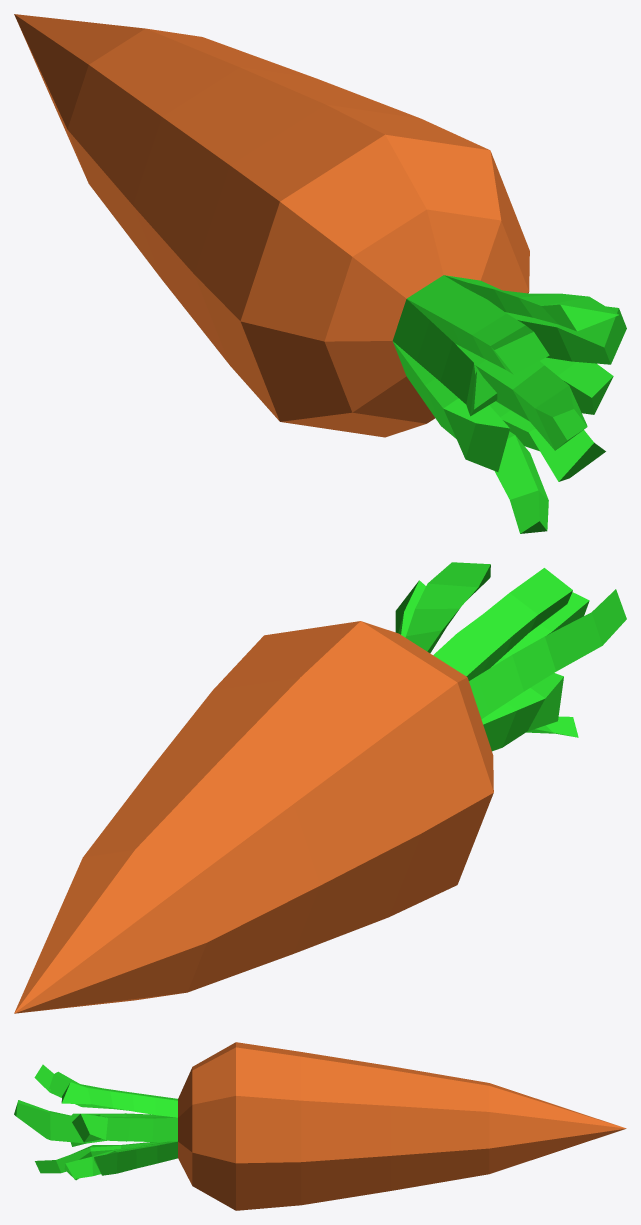
File: carrot.fbx
3 renders of one model, top to bottom at view 1: azimuth 30°, elevation 25°; view 2: azimuth 150°, elevation 25°; view 3: azimuth 270°, elevation 25°, orthographic. The views are drawn at different scales.
Visible parts, largest first — view 1: Cube; view 2: Cube; view 3: Cube.
Boxes of the visible parts, x1,y1,x2,y2 form: Cube: [14, 14, 626, 533]; Cube: [14, 562, 626, 1013]; Cube: [14, 1042, 626, 1210].
Bounding box in the file's own units: 0.3834 × 0.3834 × 1.35.
